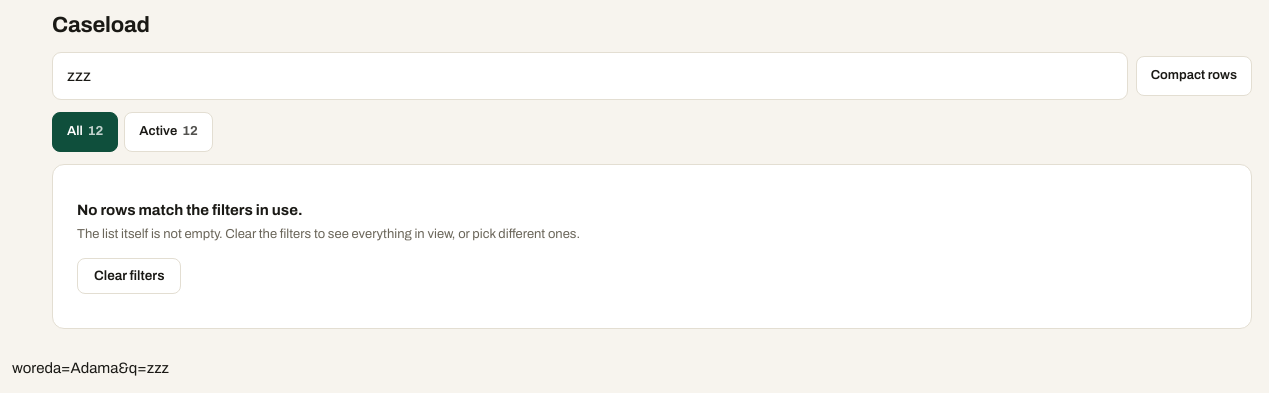
Test case: ListPage › never clears the woreda scope from an empty list
The image size is (1269, 393).
Step 1. Click the button "Clear filters" → (129, 276), box [77, 258, 182, 294]
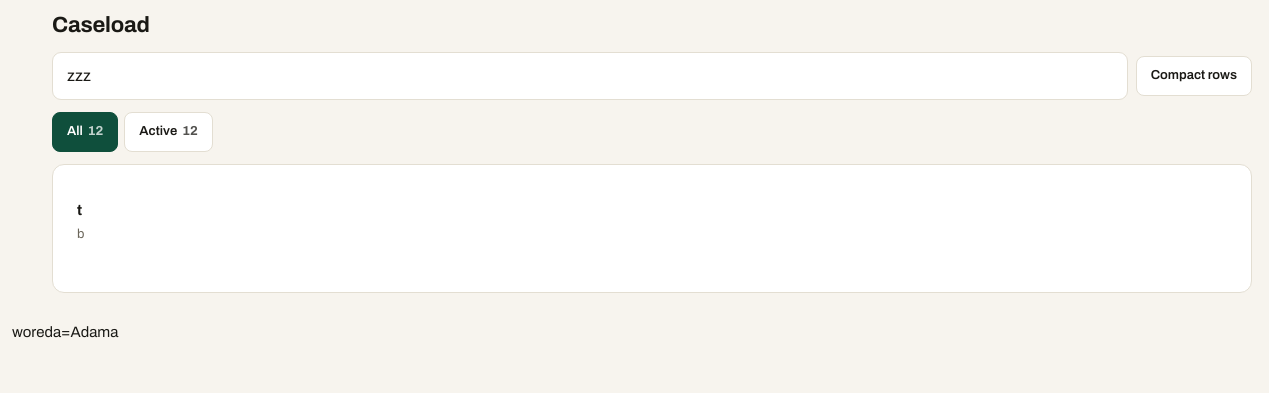
expect the text with test id "query" reads "woreda=Adama": met, box [12, 324, 118, 340]
expect the text with test id "query" no longer shows "q=zzz": met, box [12, 324, 118, 340]
